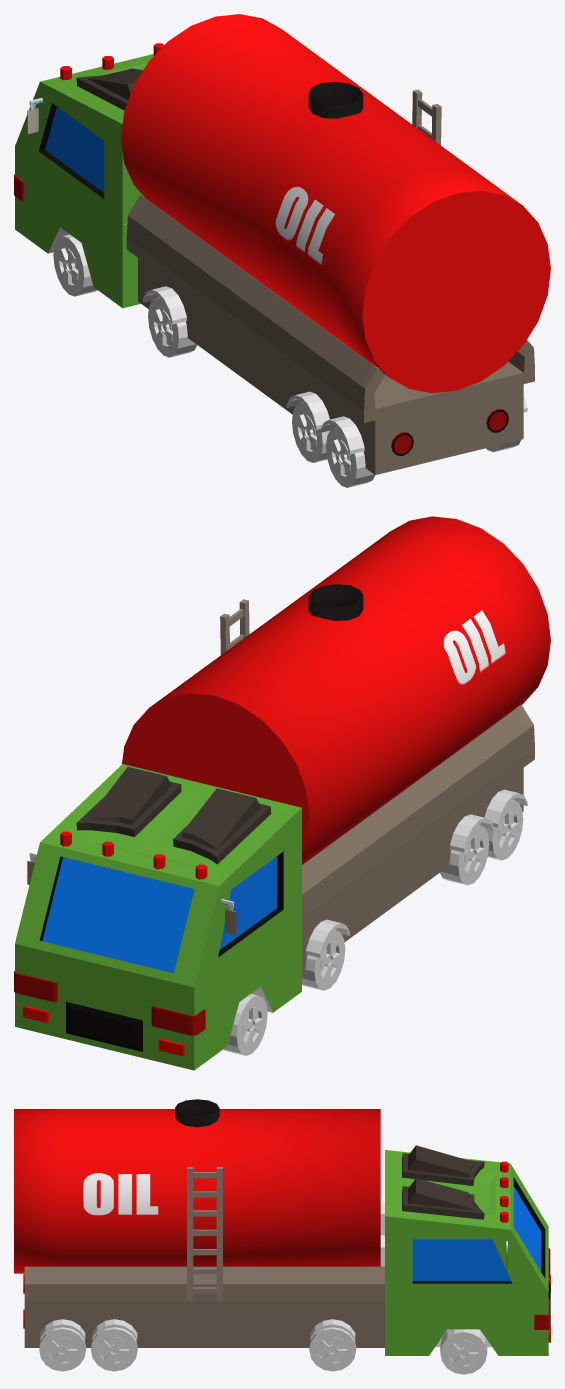
The model's file is Truck3.fbx.
The picture shows the model from 3 angles, top to bottom: view 1: azimuth 30°, elevation 25°; view 2: azimuth 150°, elevation 25°; view 3: azimuth 270°, elevation 25°; orthographic projection. The views are drawn at different scales.
Parts seen in each view (by area): view 1: Petrol Cylinder, Truck_Type3, Wheel_Front.L.001, Wheel_Rare1.L.001, Wheel_Rare3.L.001, Wheel_Rare2.L.001, House_Ladder.001, WheelCover_Rare3.L.001, WheelCover_Rare1.L.001, WheelCover_Rare2.L.001; view 2: Truck_Type3, Petrol Cylinder, Wheel_Front.L.001, Wheel_Rare2.L.001, Wheel_Rare1.L.001, Wheel_Rare3.L.001, House_Ladder.001, WheelCover_Rare1.L.001, WheelCover_Rare2.L.001, WheelCover_Rare3.L.001; view 3: Petrol Cylinder, Truck_Type3, House_Ladder.001, Wheel_Front.R.001, Wheel_Rare3.R.001, Wheel_Rare2.R.001, Wheel_Rare1.R.001, WheelCover_Rare2.R.001, WheelCover_Rare1.R.001, WheelCover_Rare3.R.001.
Boxes of the visible parts, bbox=[...] form: Petrol Cylinder: bbox=[121, 14, 550, 393]; Truck_Type3: bbox=[14, 43, 534, 474]; Wheel_Front.L.001: bbox=[53, 234, 97, 296]; Wheel_Rare1.L.001: bbox=[148, 297, 196, 357]; Wheel_Rare3.L.001: bbox=[326, 427, 375, 487]; Wheel_Rare2.L.001: bbox=[292, 402, 329, 462]; House_Ladder.001: bbox=[412, 89, 441, 145]; WheelCover_Rare3.L.001: bbox=[320, 416, 364, 454]; WheelCover_Rare1.L.001: bbox=[143, 286, 186, 324]; WheelCover_Rare2.L.001: bbox=[286, 391, 329, 429]; Truck_Type3: bbox=[14, 705, 534, 1070]; Petrol Cylinder: bbox=[122, 516, 550, 864]; Wheel_Front.L.001: bbox=[223, 994, 267, 1055]; Wheel_Rare2.L.001: bbox=[440, 824, 489, 885]; Wheel_Rare1.L.001: bbox=[302, 930, 345, 990]; Wheel_Rare3.L.001: bbox=[486, 800, 523, 860]; House_Ladder.001: bbox=[220, 599, 249, 654]; WheelCover_Rare1.L.001: bbox=[306, 919, 349, 957]; WheelCover_Rare2.L.001: bbox=[449, 814, 493, 852]; WheelCover_Rare3.L.001: bbox=[484, 789, 527, 827]; Petrol Cylinder: bbox=[14, 1099, 380, 1273]; Truck_Type3: bbox=[23, 1145, 550, 1355]; House_Ladder.001: bbox=[187, 1167, 222, 1299]; Wheel_Front.R.001: bbox=[440, 1329, 487, 1374]; Wheel_Rare3.R.001: bbox=[39, 1327, 86, 1371]; Wheel_Rare2.R.001: bbox=[91, 1327, 137, 1371]; Wheel_Rare1.R.001: bbox=[309, 1327, 356, 1371]; WheelCover_Rare2.R.001: bbox=[92, 1319, 137, 1340]; WheelCover_Rare1.R.001: bbox=[310, 1319, 355, 1340]; WheelCover_Rare3.R.001: bbox=[40, 1319, 85, 1340].
Size of the model in its own units: 894 by 1255 by 2624.
